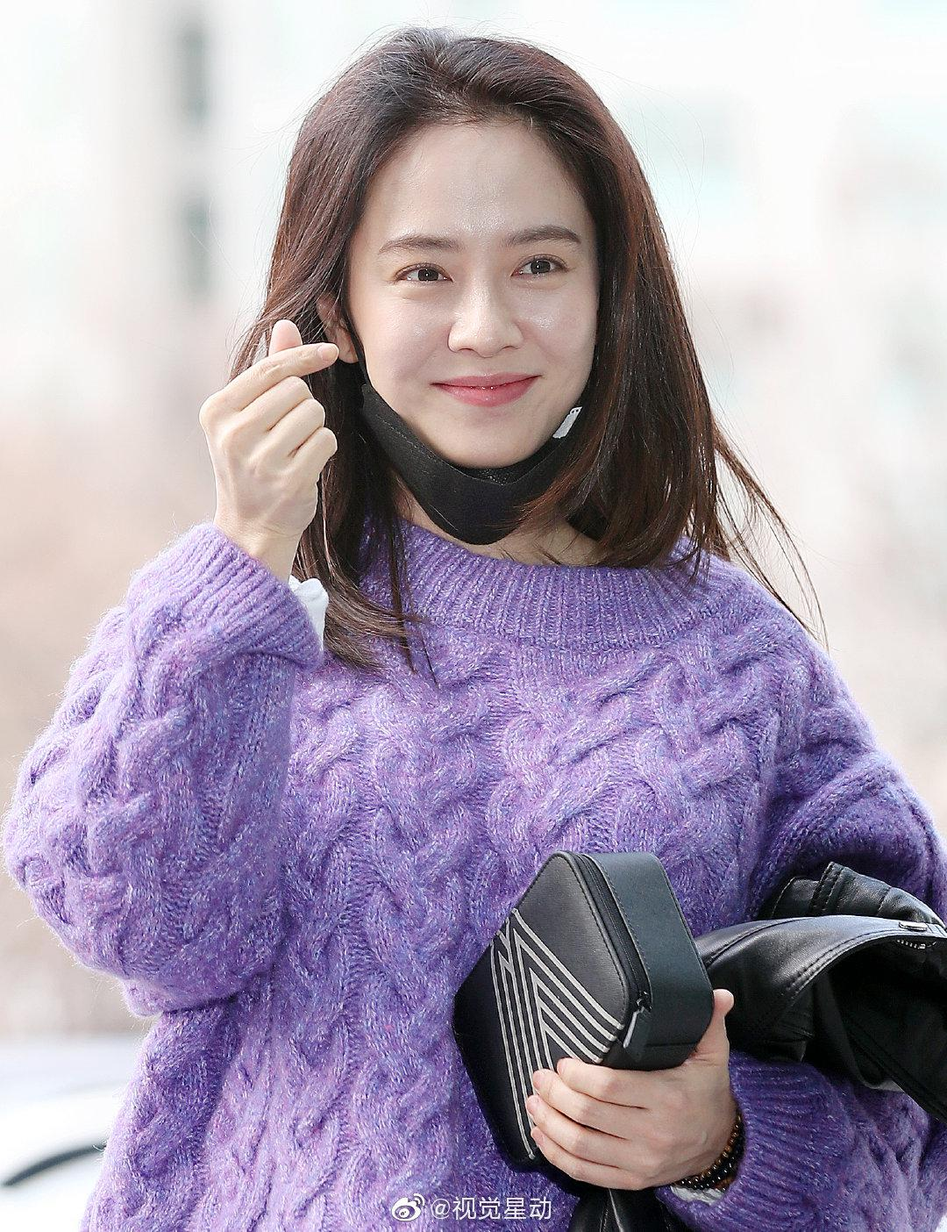WRONG: (347, 173, 597, 487)
